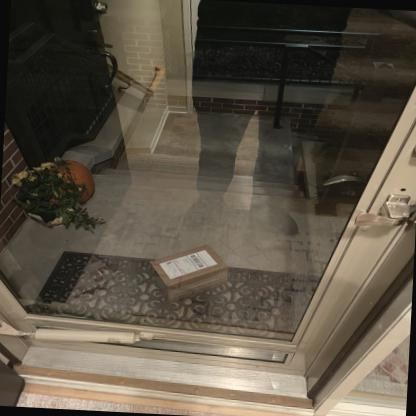box: (150, 243, 227, 305)
